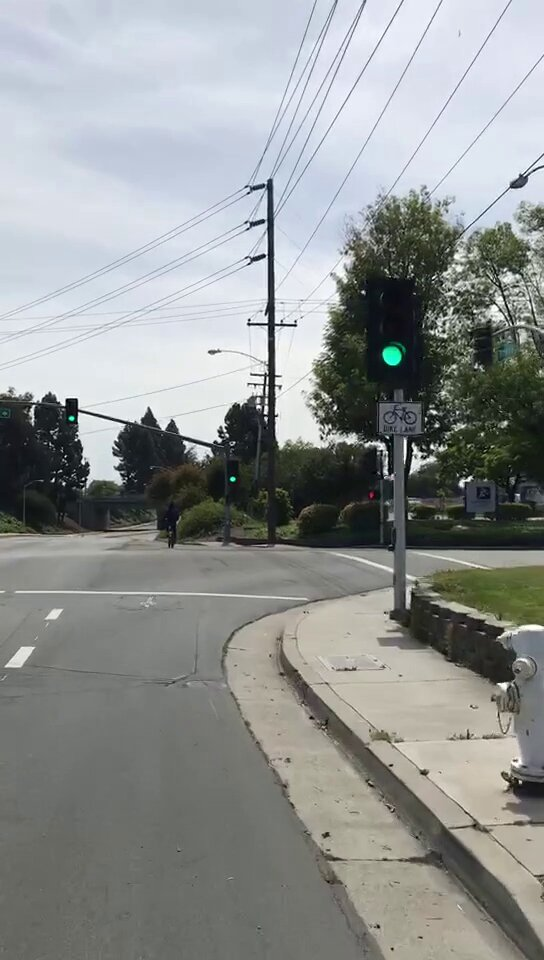green_light: (372, 282, 413, 379), (226, 460, 240, 486), (65, 399, 77, 427)
